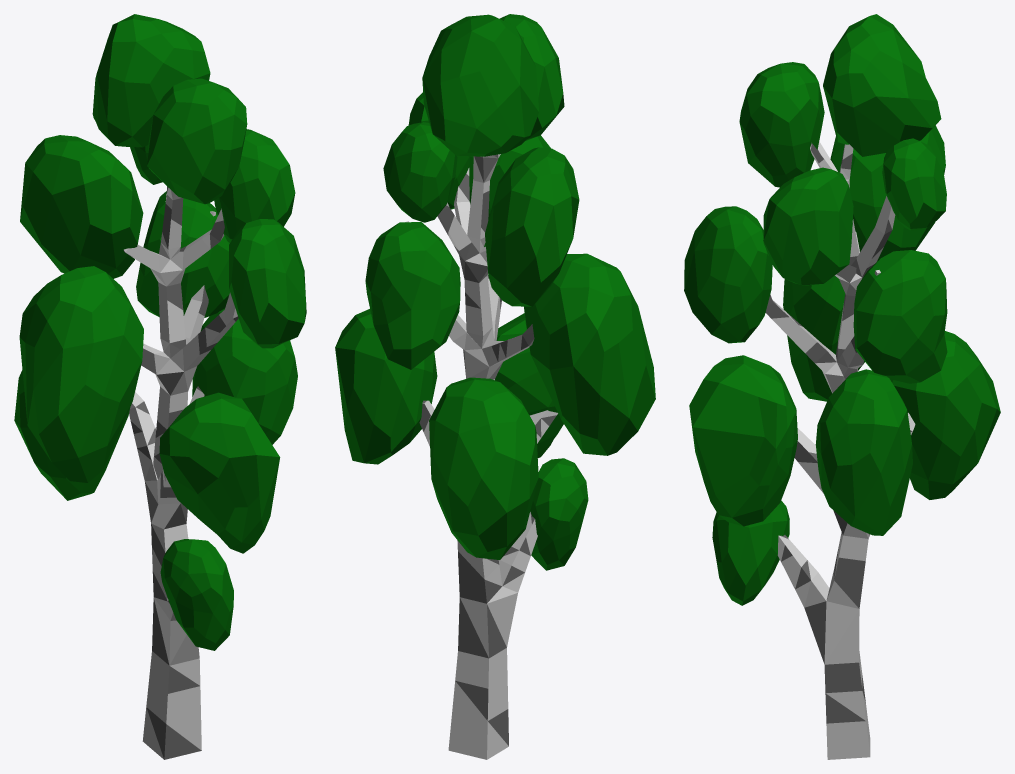
Rendered from Birch.fbx.
3 views of the same model, side by side, from view 1: azimuth 30°, elevation 25°; view 2: azimuth 150°, elevation 25°; view 3: azimuth 270°, elevation 25° (orthographic). The views are drawn at different scales.
Visible parts, largest first — view 1: Bereza.011; view 2: Bereza.011; view 3: Bereza.011.
Part boxes in pixels (bbox=[...]): Bereza.011: bbox=[14, 14, 306, 759]; Bereza.011: bbox=[335, 14, 655, 759]; Bereza.011: bbox=[684, 14, 1000, 759].
Bounding box in the file's own units: 650 × 1627 × 648.
